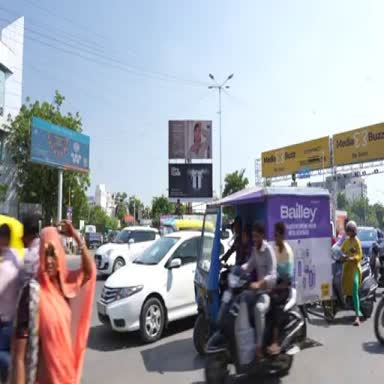Car: (97, 231, 200, 343), (94, 226, 159, 274), (357, 226, 378, 256), (108, 231, 118, 242)
